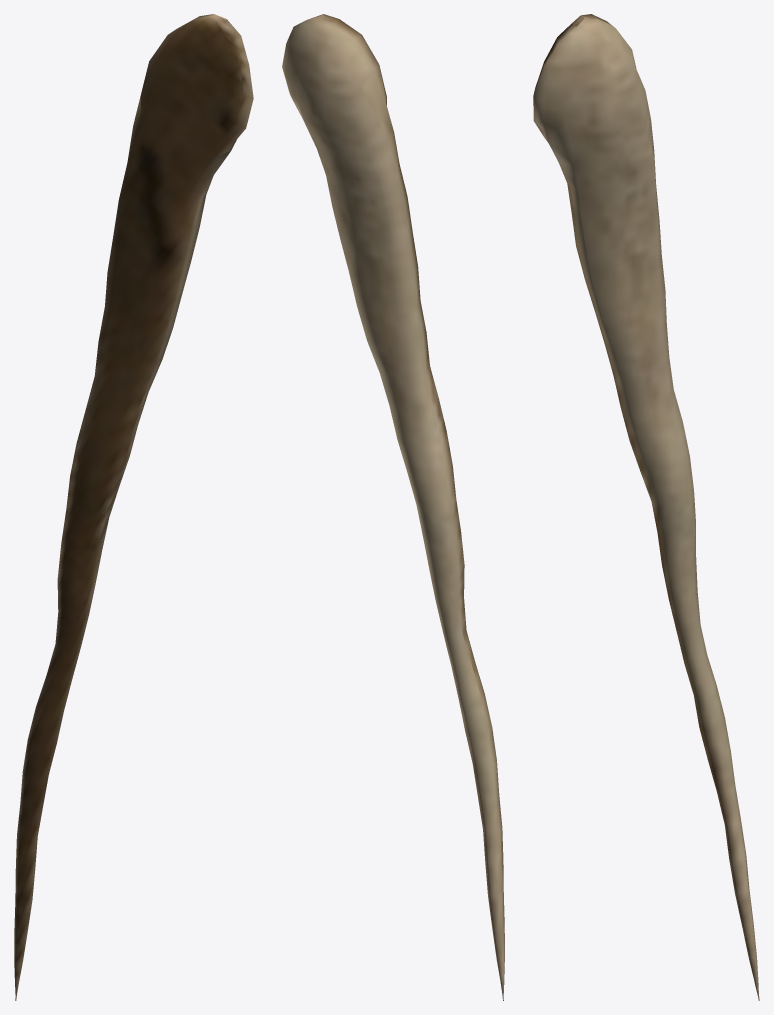
The model's file is Splint_Second_Metatarsal.glb.
3 views of the same model, side by side, from view 1: azimuth 30°, elevation 25°; view 2: azimuth 210°, elevation 25°; view 3: azimuth 270°, elevation 25° (orthographic). The views are drawn at different scales.
Visible parts, largest first — view 1: R_Bck_Splint_Second_Metatarsal; view 2: R_Bck_Splint_Second_Metatarsal; view 3: R_Bck_Splint_Second_Metatarsal.
Part boxes in pixels (x1,y1,x2,y2): R_Bck_Splint_Second_Metatarsal: [14, 14, 253, 1000]; R_Bck_Splint_Second_Metatarsal: [282, 14, 504, 1000]; R_Bck_Splint_Second_Metatarsal: [533, 14, 759, 1000].
Bounding box in the file's own units: 0.0293 × 0.201 × 0.0397.
Materials: 1 (1 with a texture image).
